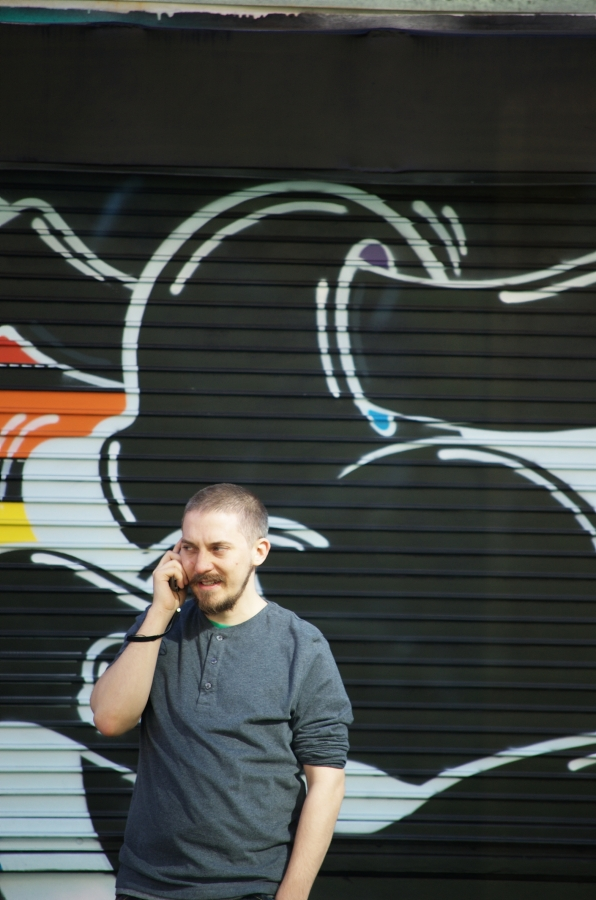phone: (159, 545, 194, 605)
talk: (151, 528, 251, 623)
